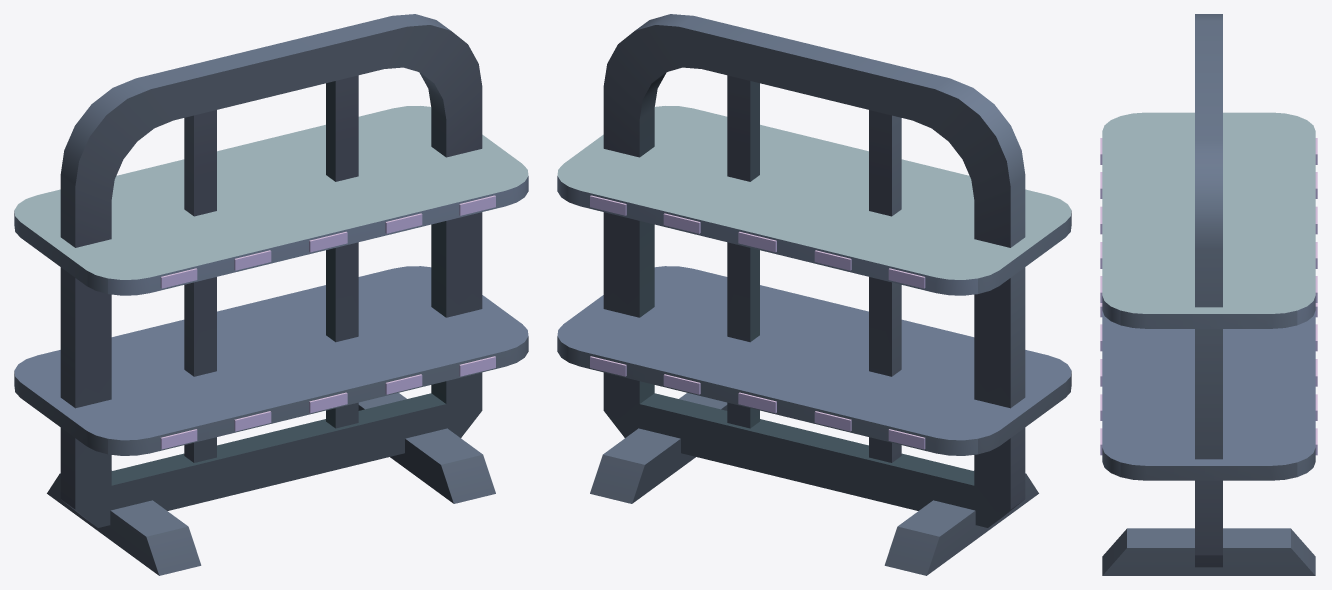
The model's file is rack_a.fbx.
3 views of the same model, side by side, from view 1: azimuth 30°, elevation 25°; view 2: azimuth 150°, elevation 25°; view 3: azimuth 270°, elevation 25° (orthographic). The views are drawn at different scales.
Parts seen in each view (by area): view 1: rack_labeled; view 2: rack_labeled; view 3: rack_labeled.
Part boxes in pixels (<box>): rack_labeled: <box>14,14,528,575</box>; rack_labeled: <box>557,14,1071,575</box>; rack_labeled: <box>1100,14,1317,575</box>.
Size of the model in its own units: 186 by 180 by 84.69.
